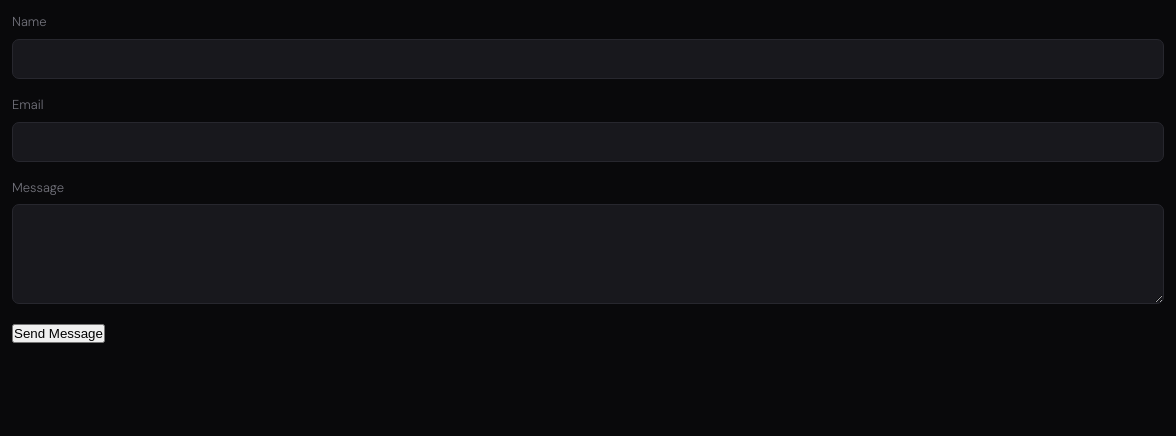
ContactForm — Validation Errors › shows name too short error
Type "A" into the field with test id "input-name" at (588, 59), box [12,39,1164,79]
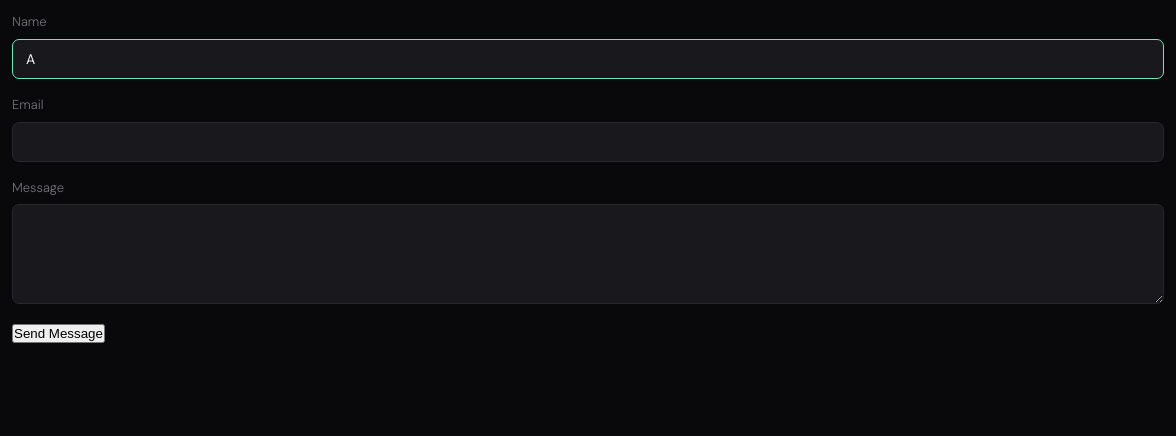
Click the button with test id "submit-btn" at (58, 334), box [12,324,105,343]
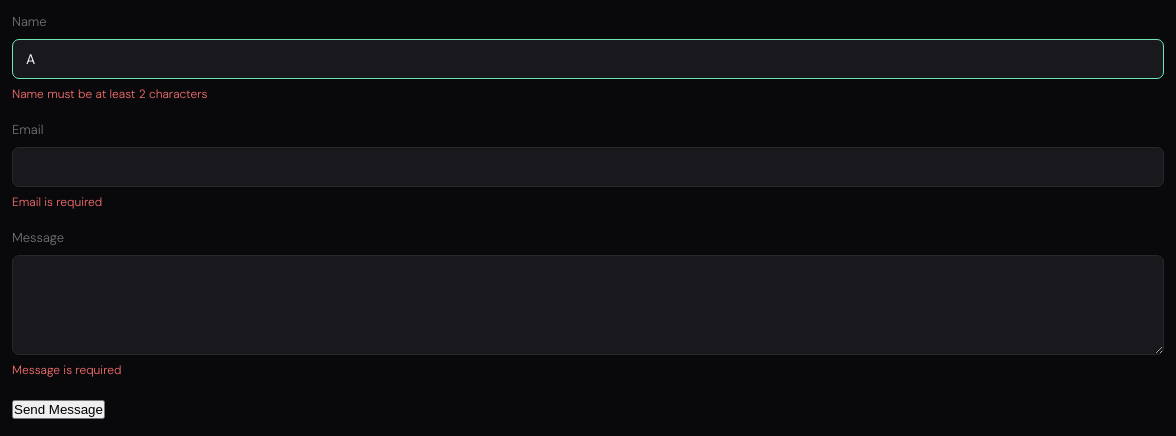
Result: the message with test id "error-name" shows "at least 2 characters" at [12,86,208,102]
